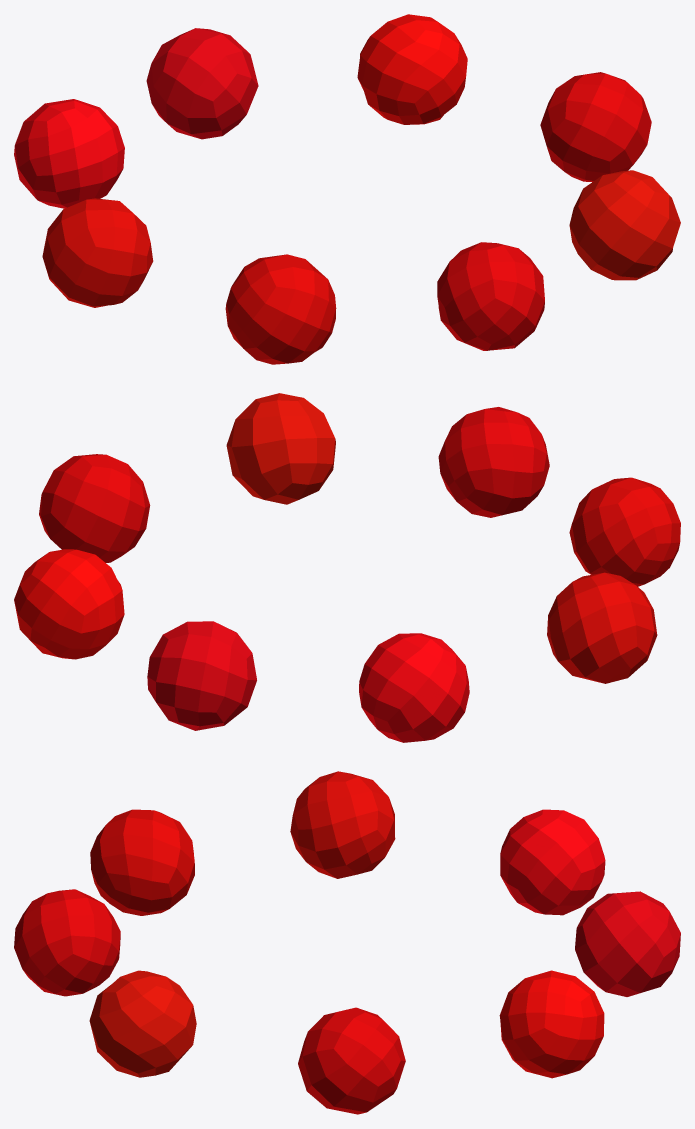
Rendered from Red_spheres.fbx.
3 views of the same model, one above another, from view 1: azimuth 30°, elevation 25°; view 2: azimuth 150°, elevation 25°; view 3: azimuth 270°, elevation 25° (orthographic). The views are drawn at different scales.
Parts seen in each view (by area): view 1: Esferas 55-70 faces; view 2: Esferas 55-70 faces; view 3: Esferas 55-70 faces.
Part boxes in pixels (<box>): Esferas 55-70 faces: <box>14,14,680,364</box>; Esferas 55-70 faces: <box>14,393,680,742</box>; Esferas 55-70 faces: <box>14,771,680,1114</box>.
Size of the model in its own units: 264 by 42.86 by 265.
